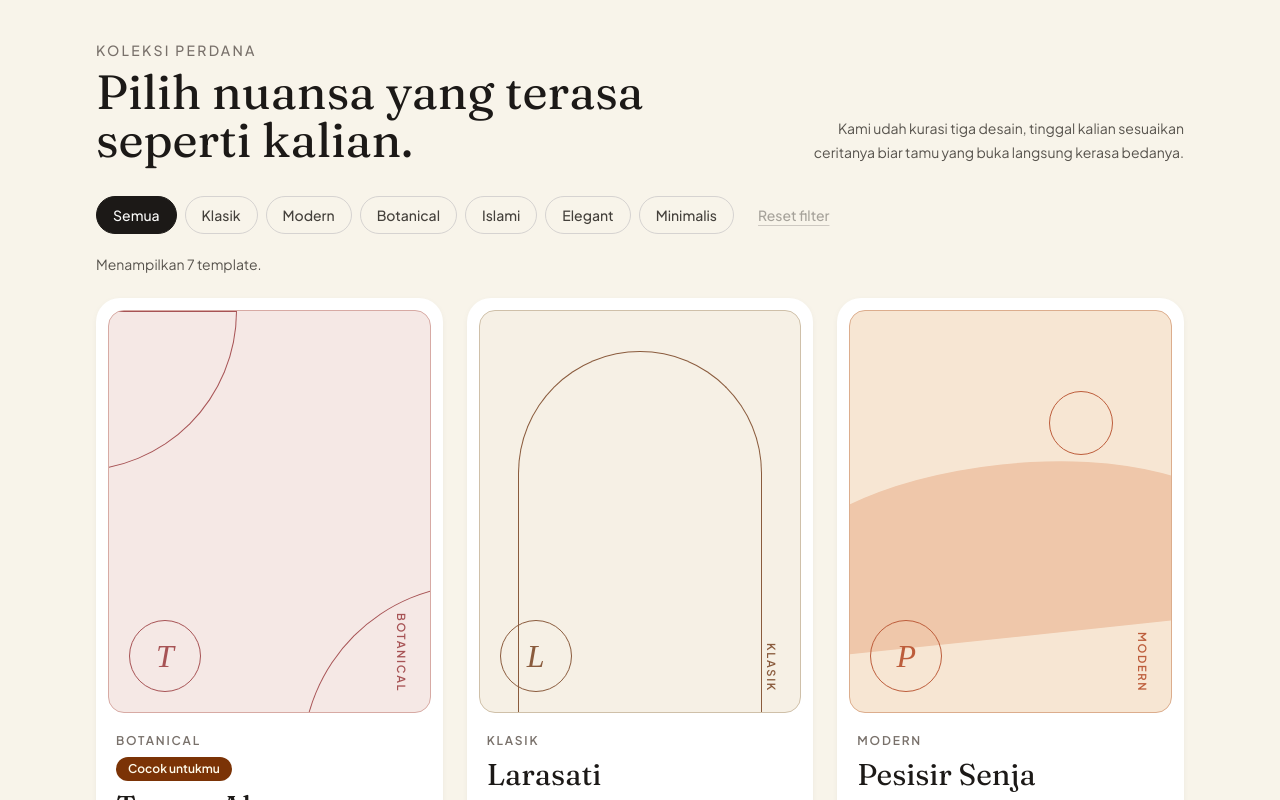
Test case: Catalog › still applies the category filter correctly after a match has been applied
Click the button "Klasik" at (221, 215), box [185,196,258,234]
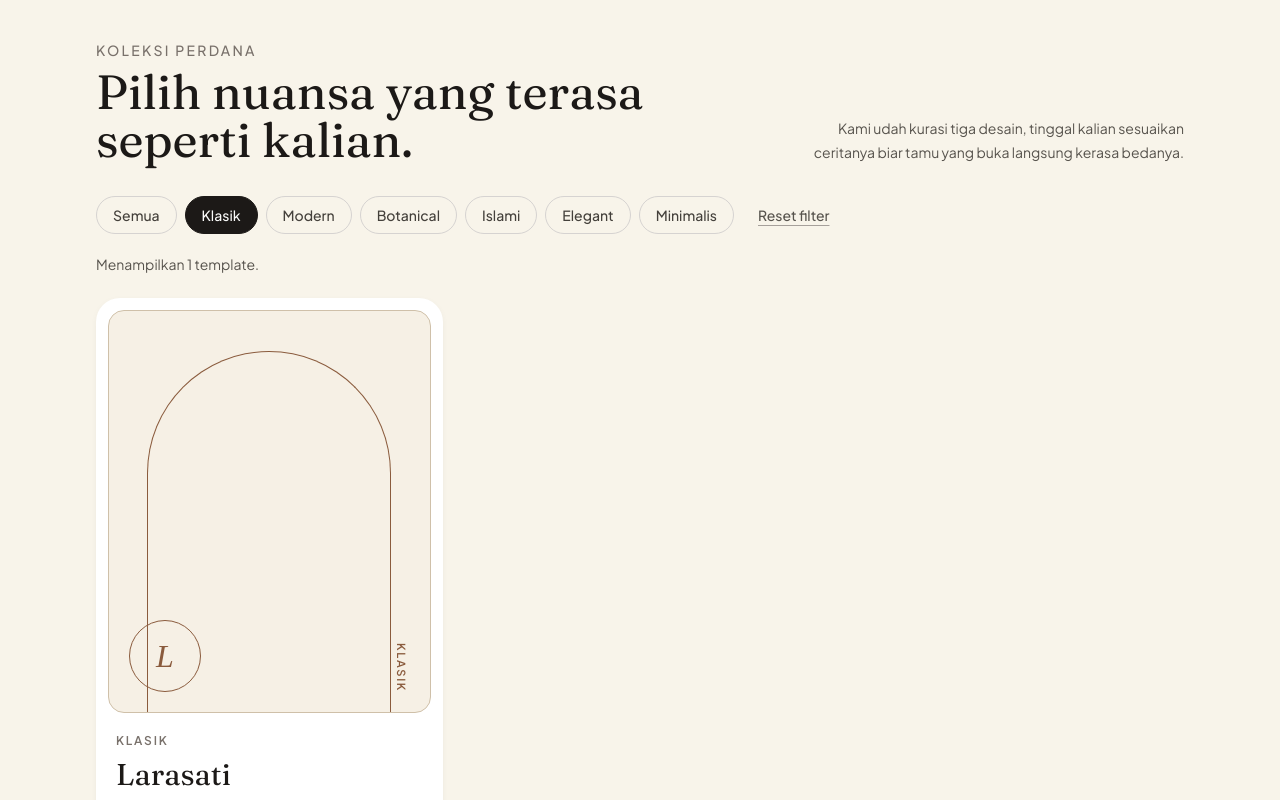
Now the headings read "Larasati", in this order, box [116,756,231,793]
Now the heading "Pesisir Senja" is gone
Now the text "Cocok untukmu" is gone
